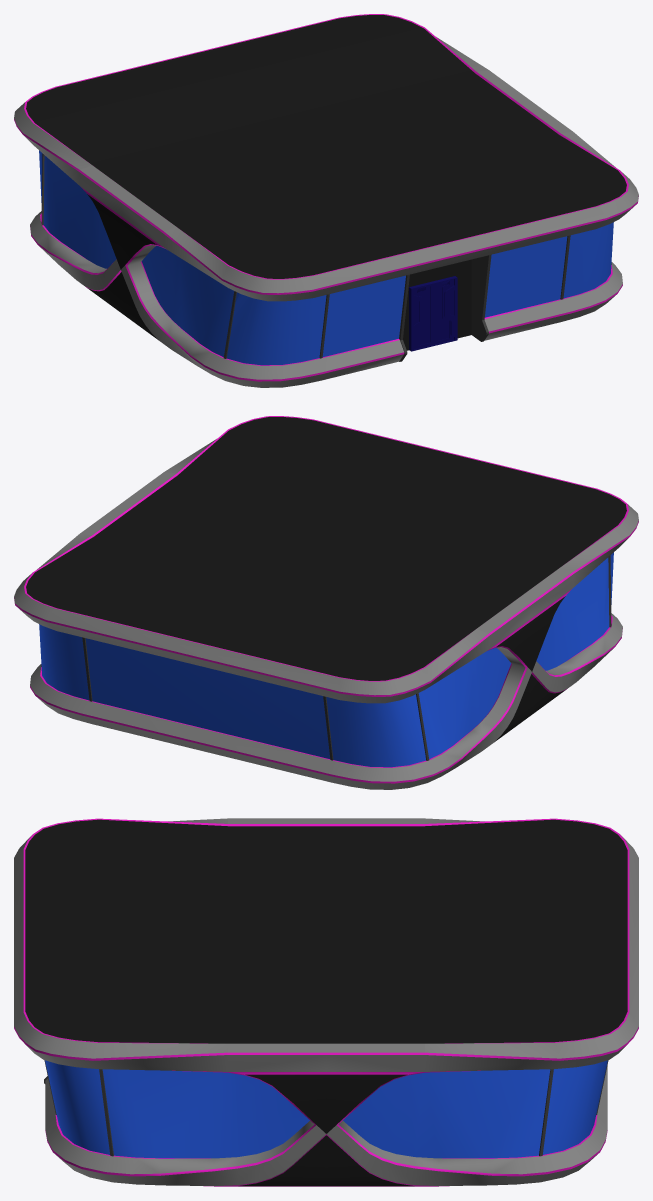
File: SM_Building_Base_MK4.fbx
The picture shows the model from 3 angles, top to bottom: view 1: azimuth 30°, elevation 25°; view 2: azimuth 150°, elevation 25°; view 3: azimuth 270°, elevation 25°; orthographic projection. The views are drawn at different scales.
Parts seen in each view (by area): view 1: SM_Building_Base_MK4; view 2: SM_Building_Base_MK4; view 3: SM_Building_Base_MK4.
Boxes of the visible parts, x1,y1,x2,y2 form: SM_Building_Base_MK4: (14,14,638,387); SM_Building_Base_MK4: (14,416,638,789); SM_Building_Base_MK4: (14,818,638,1186).
Bounding box in the file's own units: 1791 × 500 × 2000.
